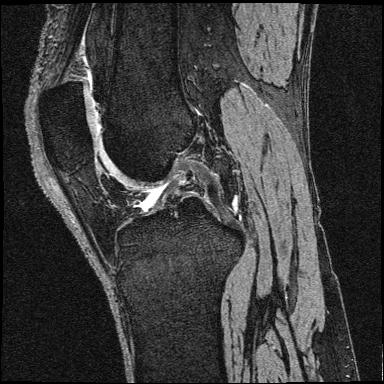SagKneeJointArea: (37, 80, 247, 269)
